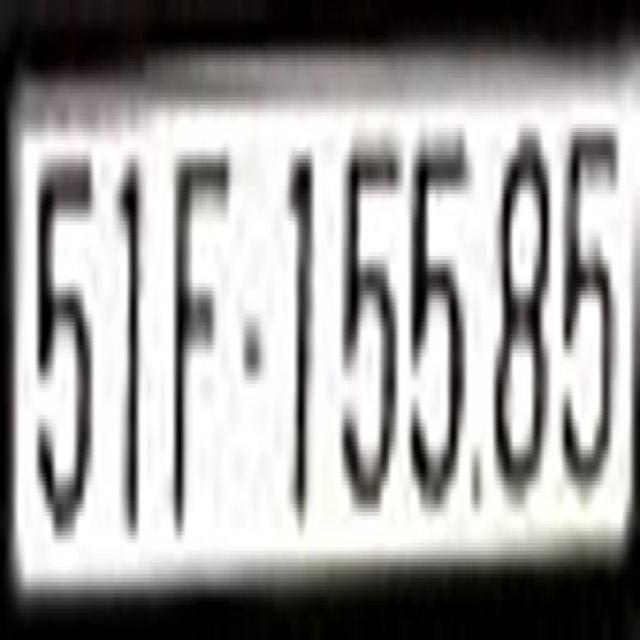1: (112, 128, 146, 547), (288, 171, 315, 516)
5: (36, 128, 100, 562), (343, 147, 397, 512), (414, 132, 464, 504), (565, 113, 614, 473)
8: (492, 116, 553, 508)
F: (171, 147, 238, 551)
